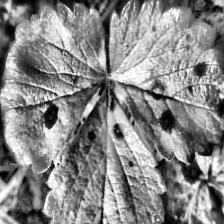Leaf Spot: (0, 0, 109, 175), (109, 0, 224, 165), (42, 83, 168, 224), (134, 146, 221, 224)
